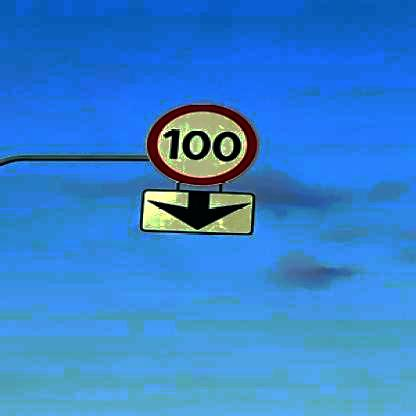Speed Limit -100-: (146, 101, 257, 186)
